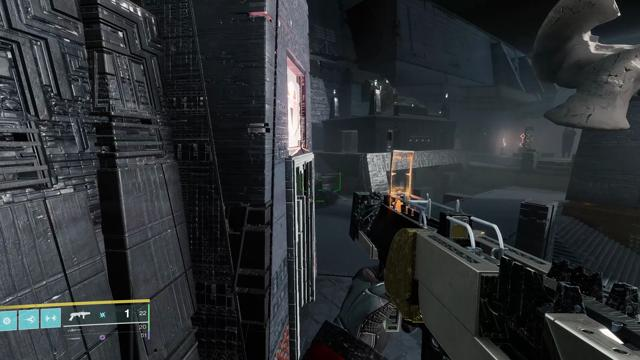give: (287, 81, 299, 136)
